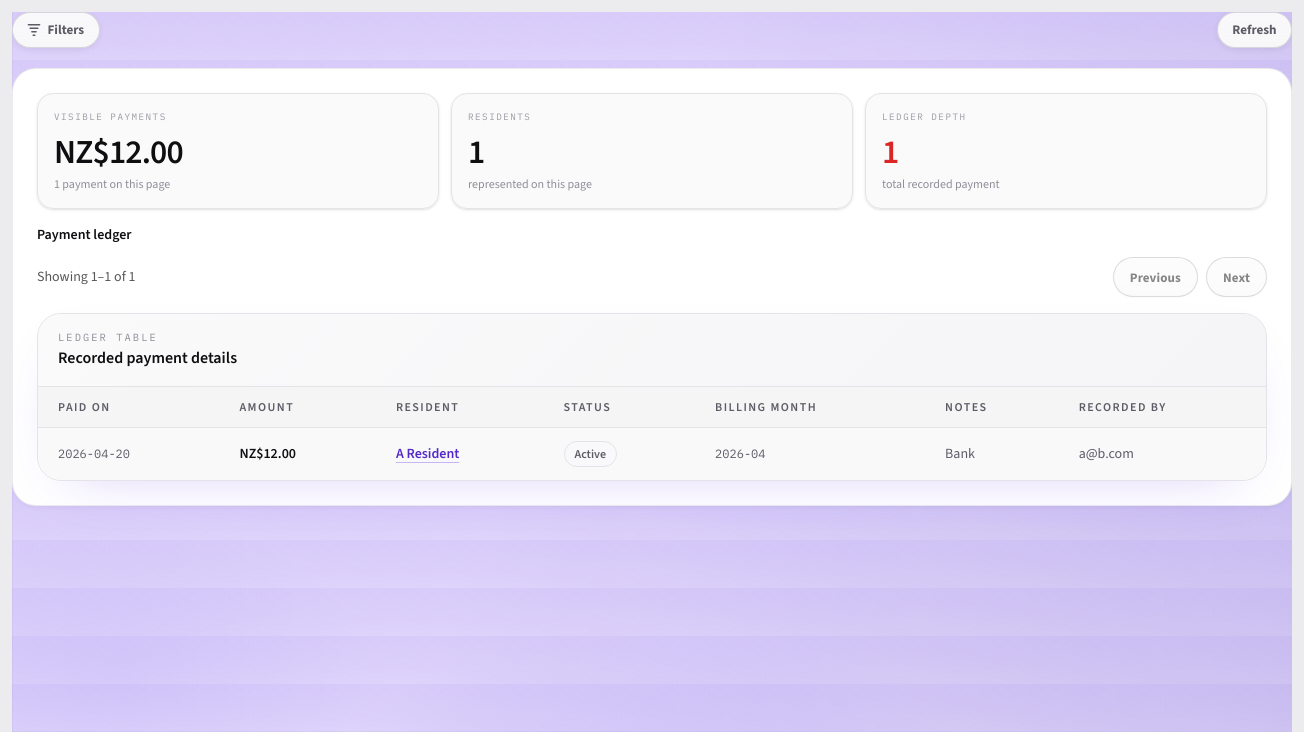
Scenario: HomePaymentsLedgerSection (20a) › stacks the home filter card above the ledger body so the Home menu is not covered
Click the button "Filters": (56,30) [12,12,100,48]
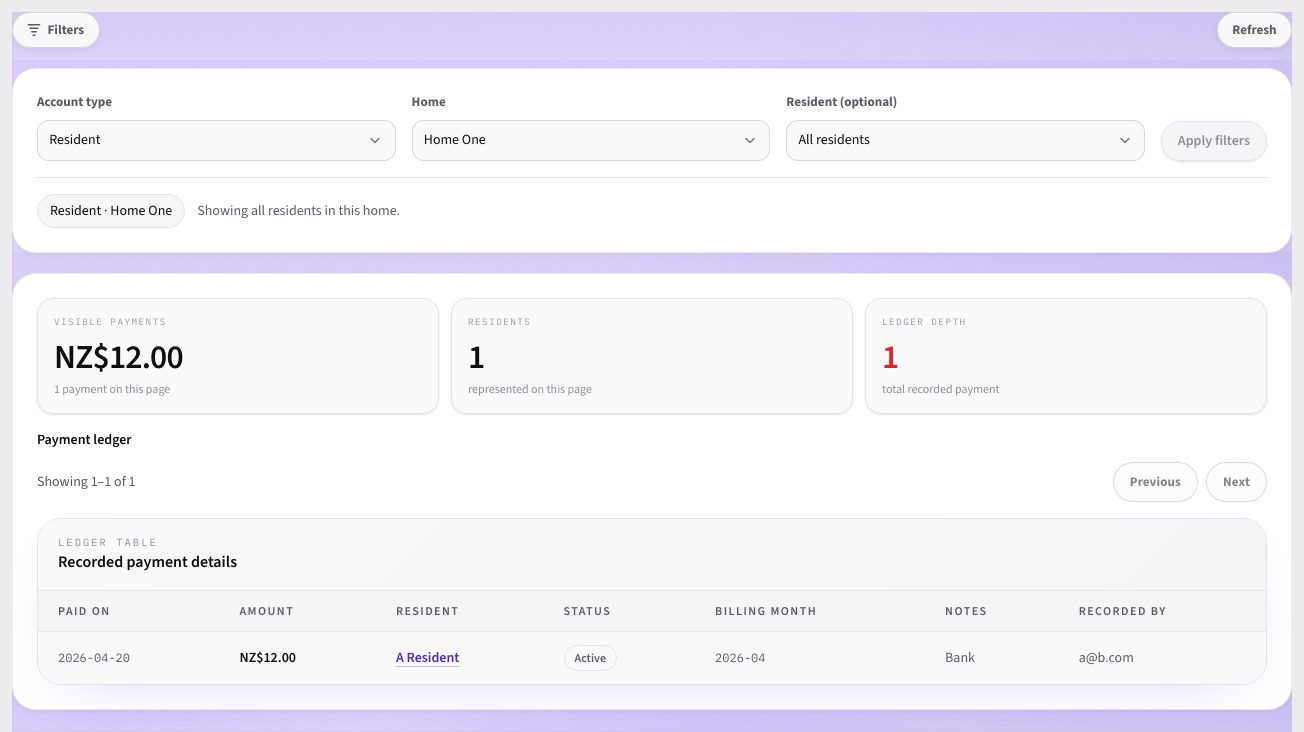
Expected: the element with test id "payments-ledger-filters" is shown, [37,93,1267,228]
